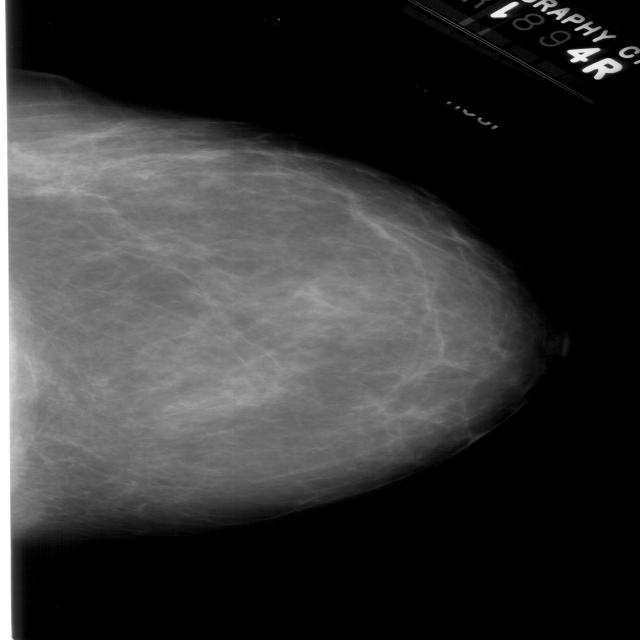normal: (0, 83, 527, 536)
